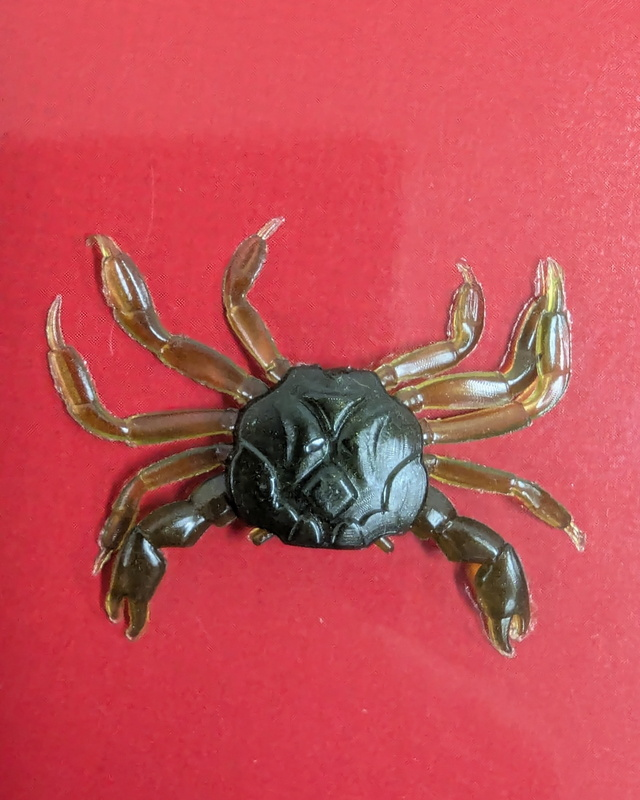crab2: (43, 217, 591, 657)
